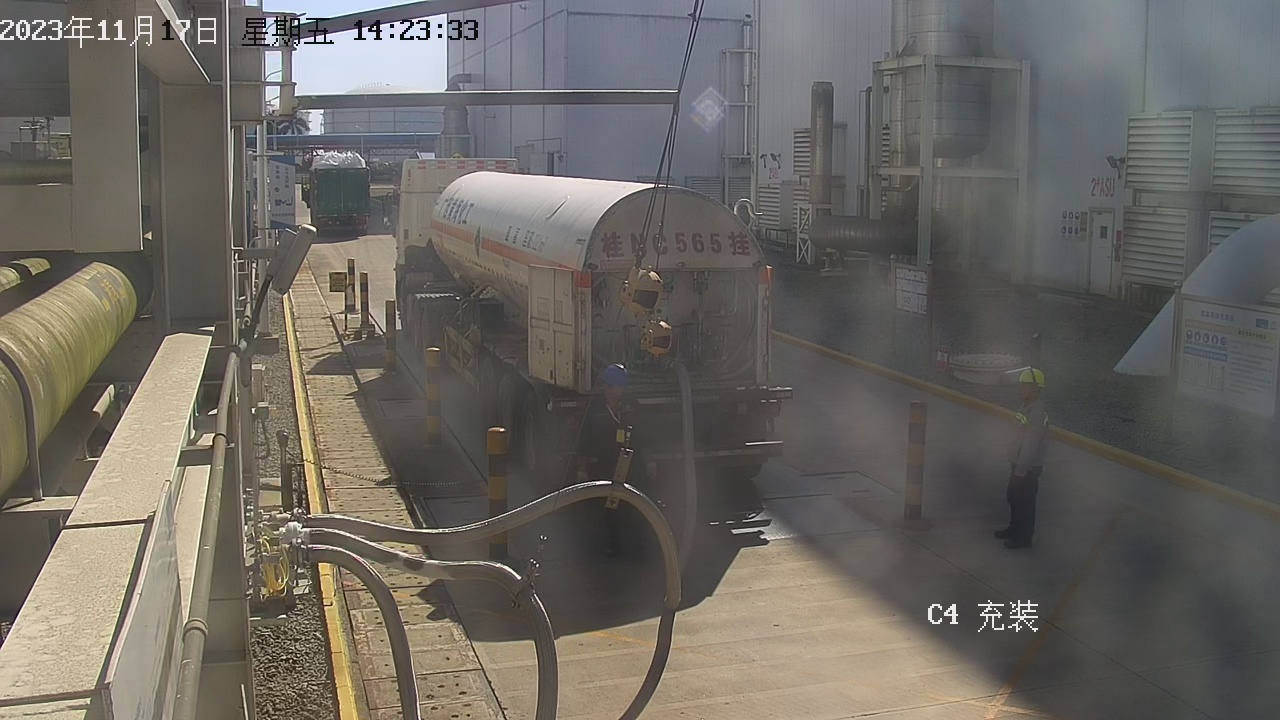Head_with_Helmet: (984, 359, 1057, 407), (596, 361, 637, 403)
Uniform: (971, 401, 1079, 553), (578, 410, 657, 556)
